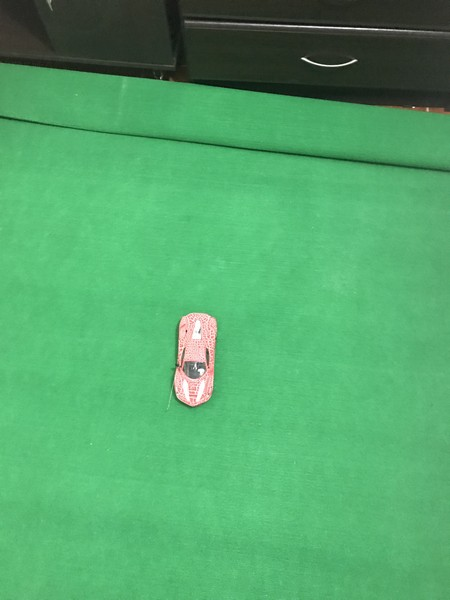RC: (171, 310, 219, 408)
